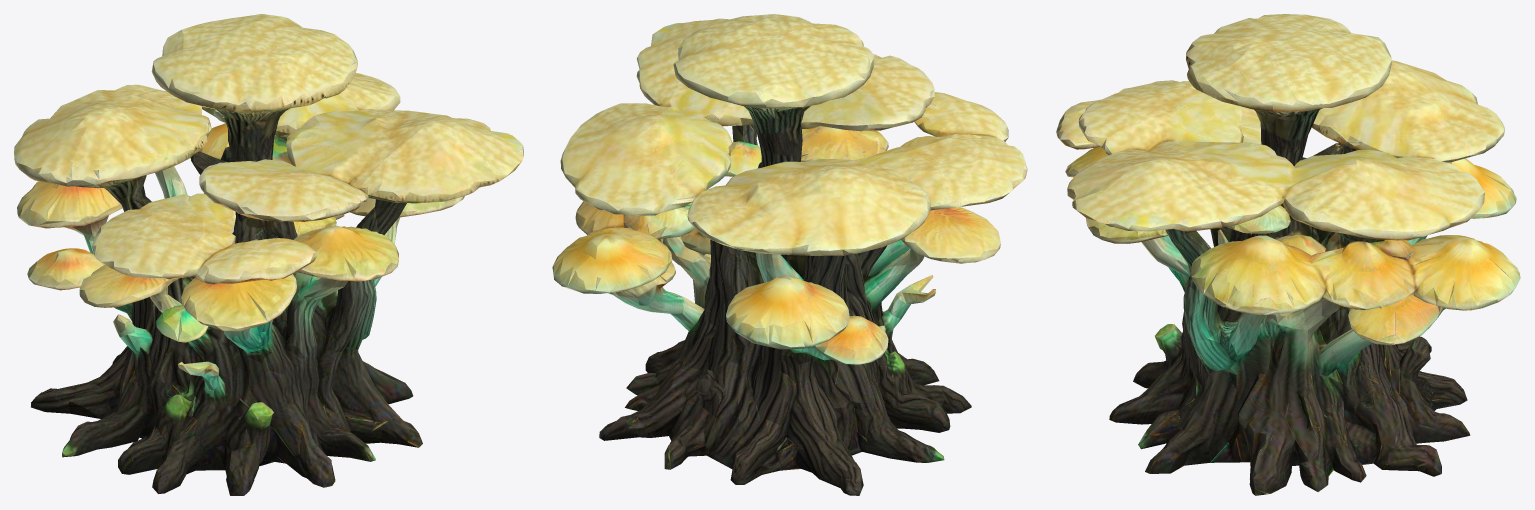
The model's file is lingzhi.glb.
3 views of the same model, side by side, from view 1: azimuth 30°, elevation 25°; view 2: azimuth 150°, elevation 25°; view 3: azimuth 270°, elevation 25° (orthographic). The views are drawn at different scales.
Size of the model in its own units: 1.87 by 1.73 by 1.9.
Materials: 1 (1 with a texture image).
